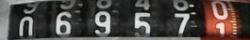digits: (127, 0, 152, 39), (17, 0, 38, 40), (169, 0, 189, 40), (209, 0, 229, 38), (54, 11, 72, 35), (94, 10, 110, 34)
